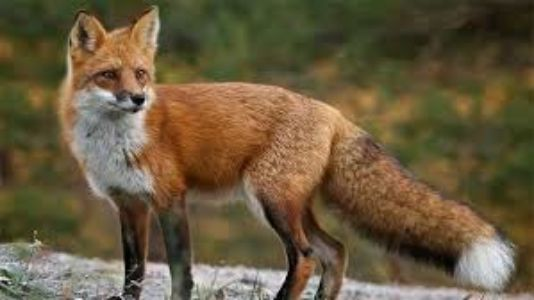fox: (45, 7, 514, 291)
